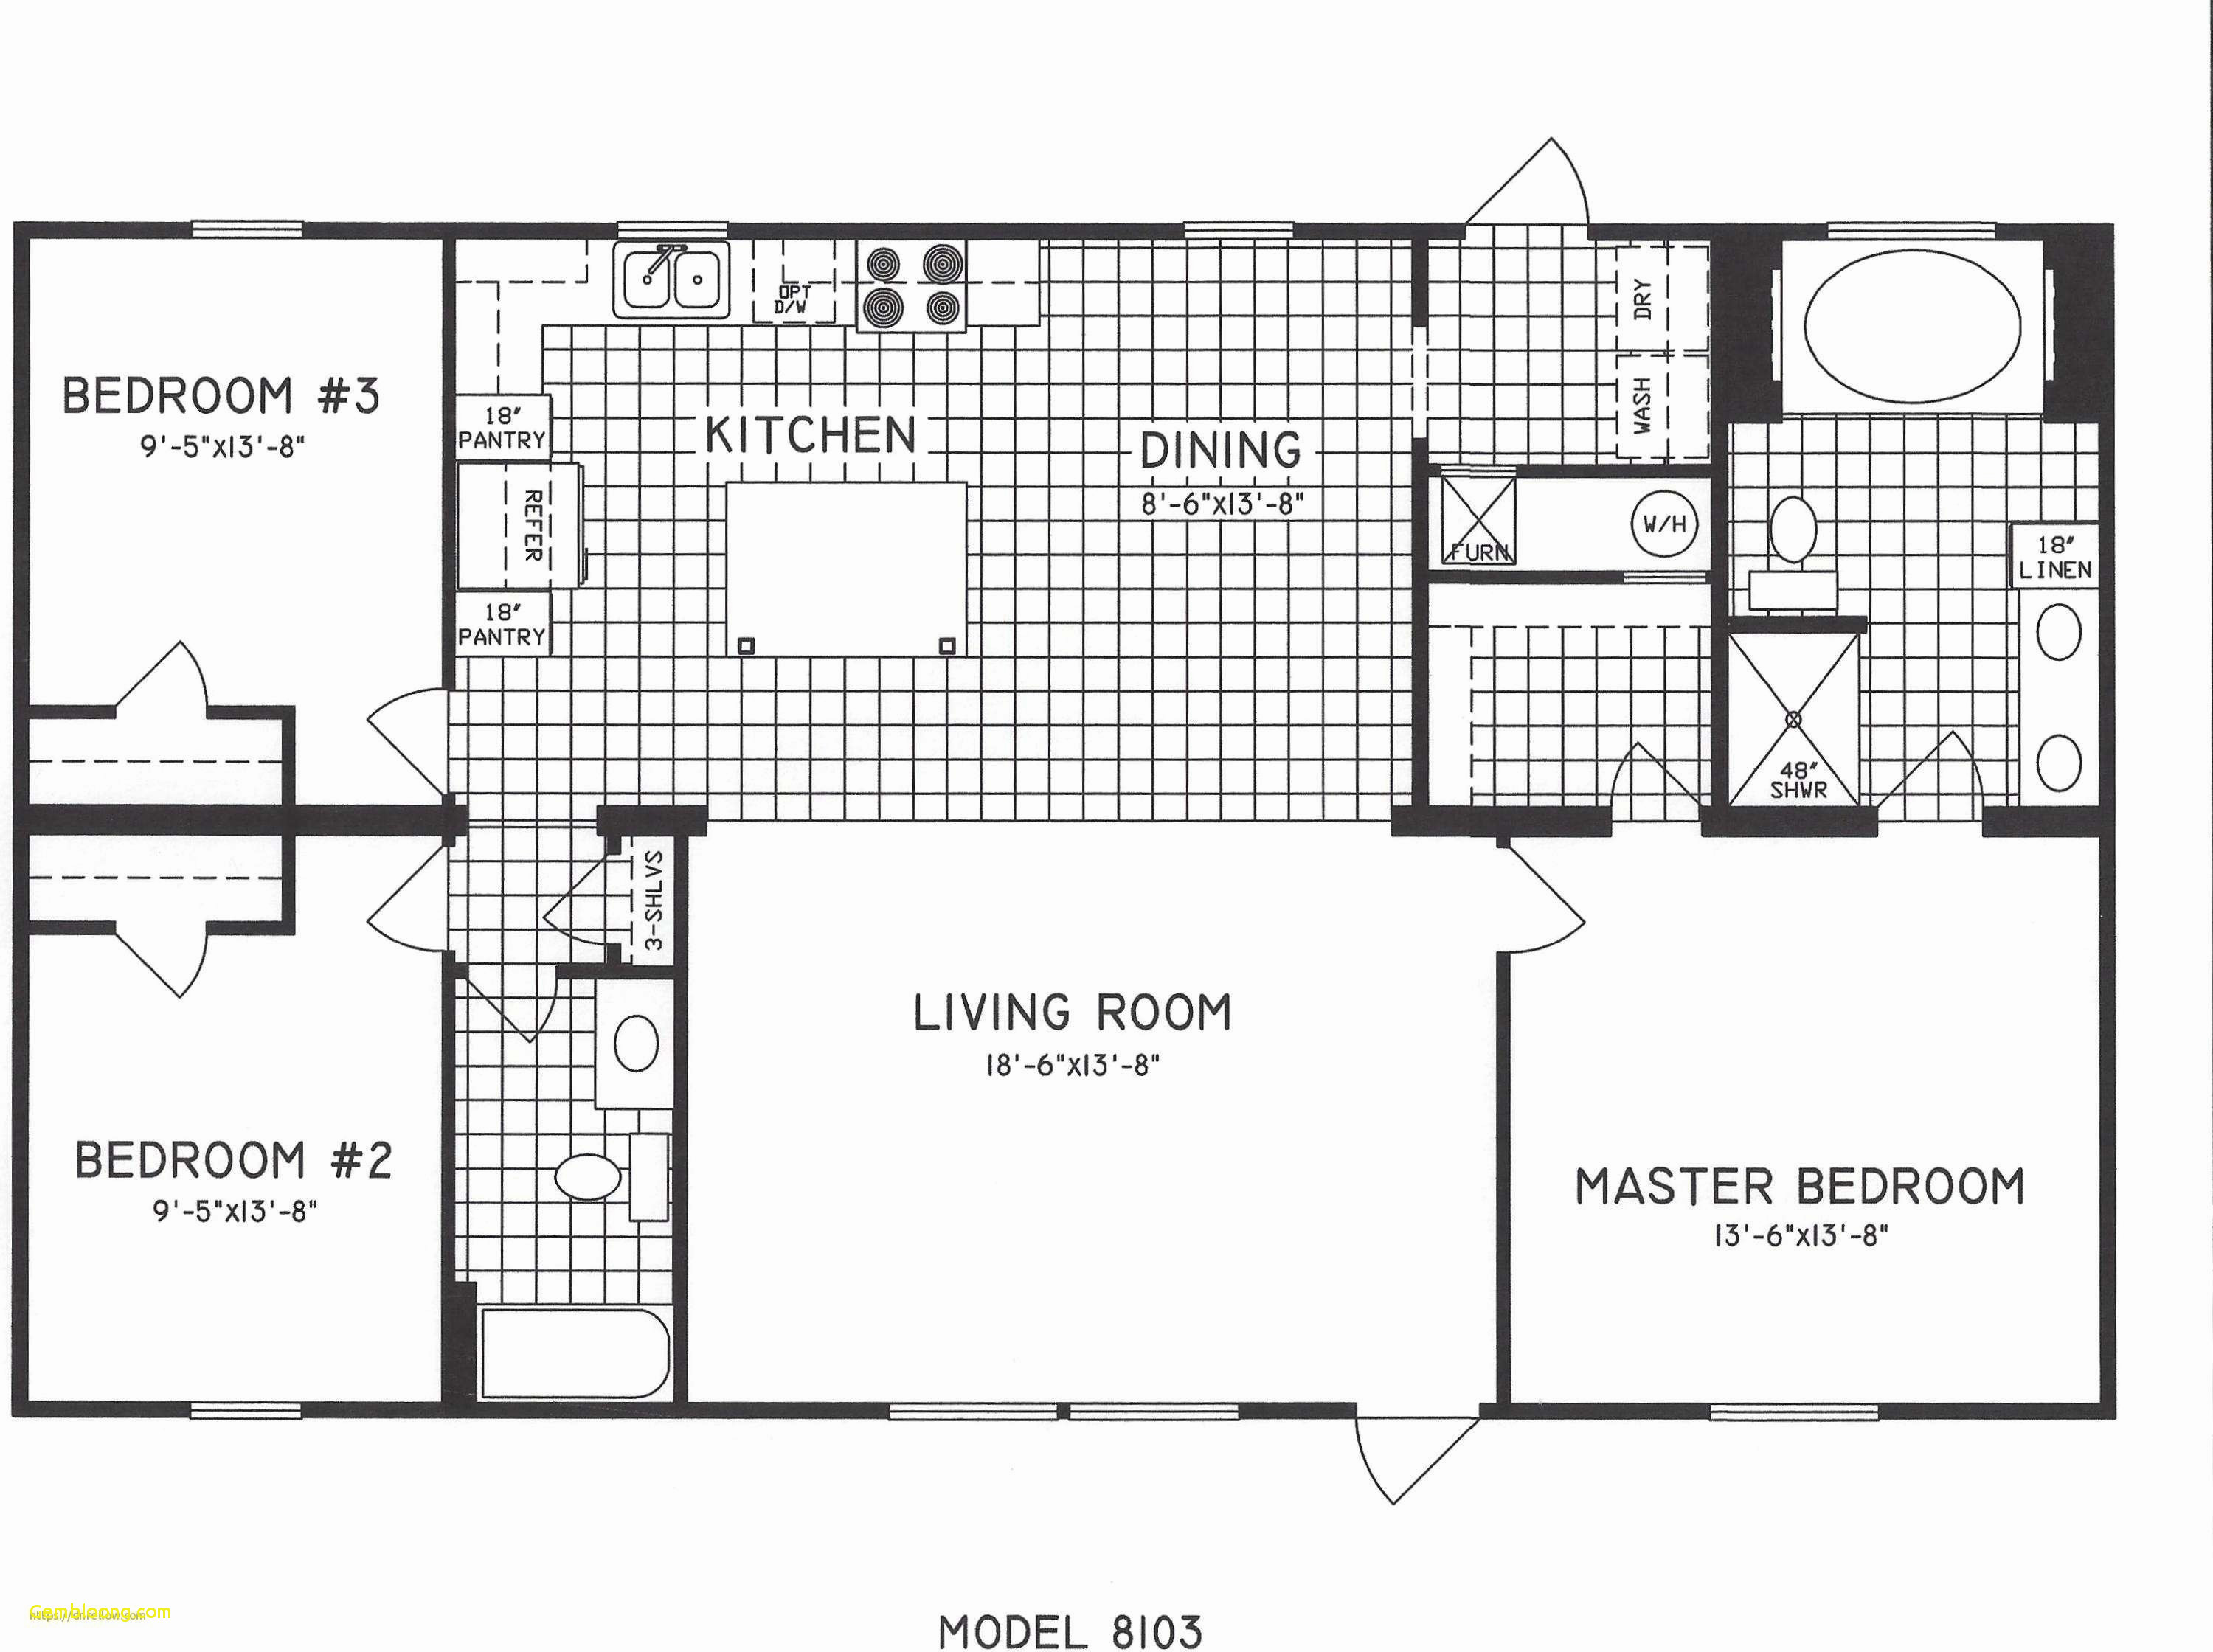room: (434, 219, 1441, 798), (668, 809, 1524, 1423), (1489, 814, 2123, 1428), (19, 796, 483, 1423), (1722, 217, 2123, 836), (9, 213, 463, 717), (1427, 219, 1736, 838), (441, 803, 696, 1423)
